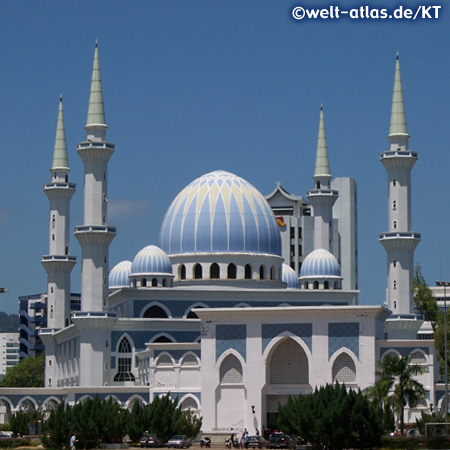Mosque: (26, 38, 419, 365)
